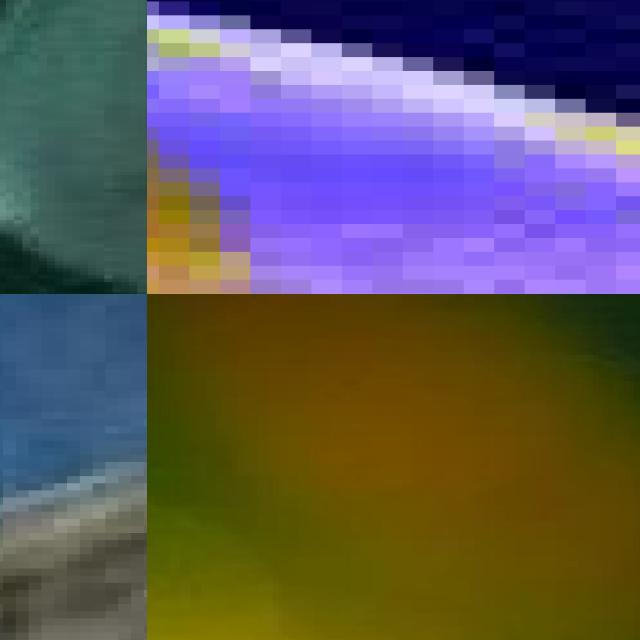fish: (147, 371, 640, 640), (0, 0, 147, 294), (0, 355, 147, 640)
